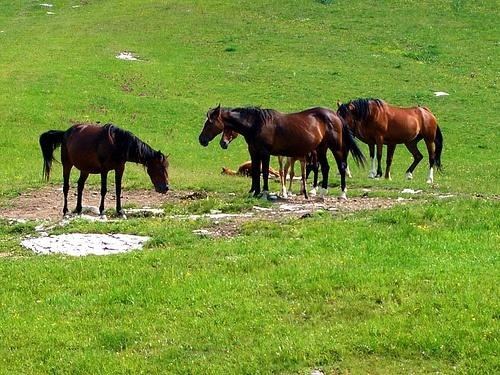horse: (198, 103, 370, 202), (38, 123, 171, 221), (337, 97, 447, 186)
